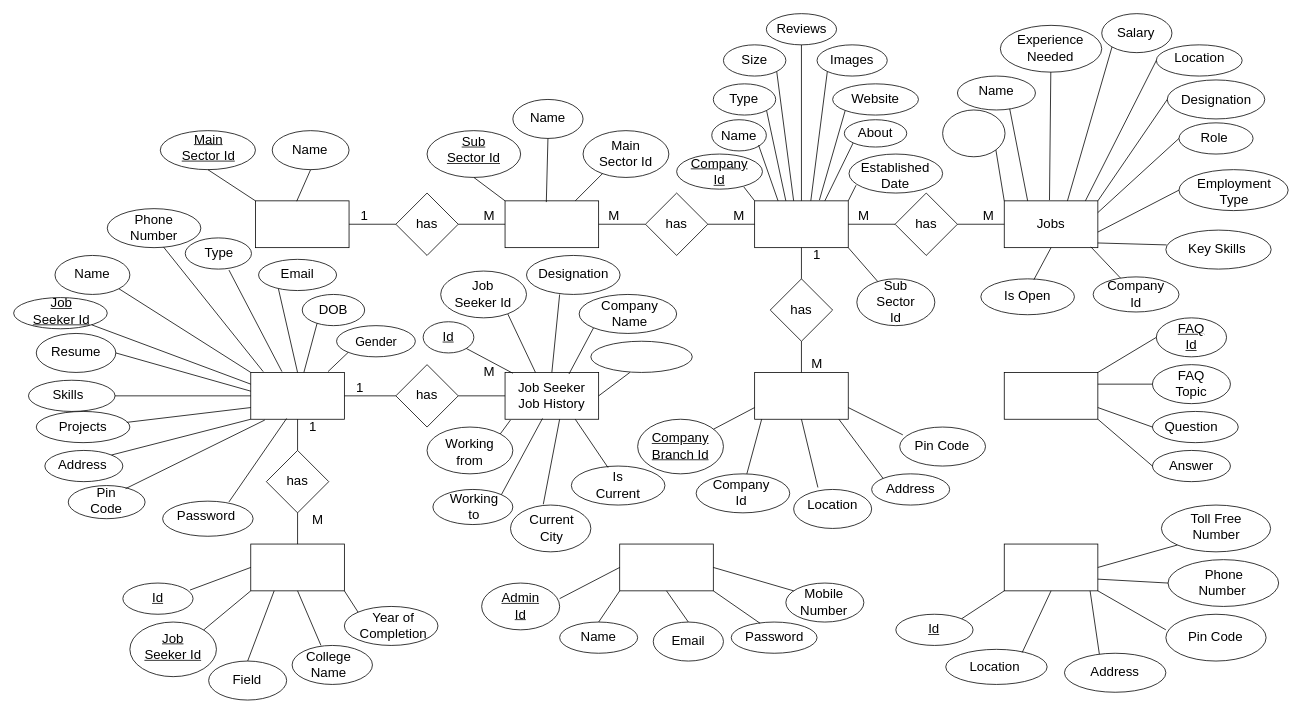
The diagram is 1302 pixels wide and 714 high, and some of its shapes have lost their labels. Here are the shapes that lost their labels. From the top down, the centre of each, then its label:
the point at 973,133: Jobs Id
the point at 302,224: Main Sectors
the point at 551,224: Sub Sectors
the point at 801,224: Companies
the point at 641,356: Annual Salary
the point at 297,395: Job Seekers
the point at 801,395: Company Branches
the point at 1050,395: FAQs
the point at 297,567: Job Seeker Education
the point at 666,567: Admin
the point at 1050,567: Contact Us Branch Address
